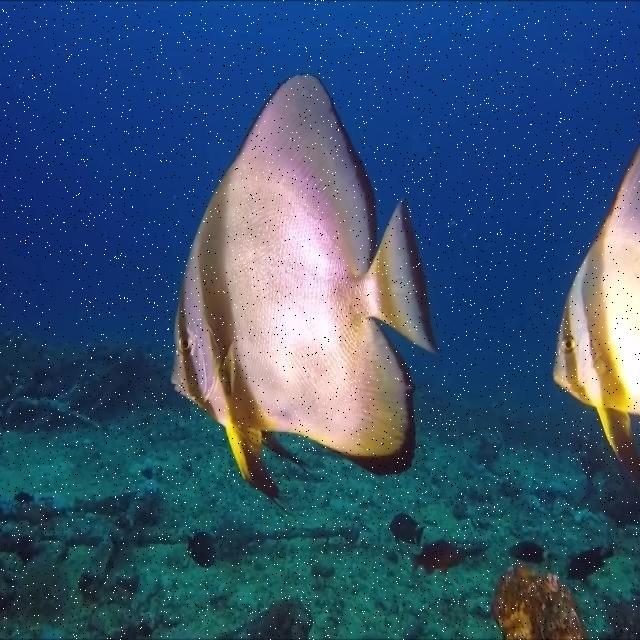fish: (171, 74, 434, 499), (548, 145, 639, 471), (409, 538, 487, 576), (389, 517, 422, 545)
sea-floor: (494, 558, 604, 639)
wrecks-ruins: (5, 484, 355, 590)
